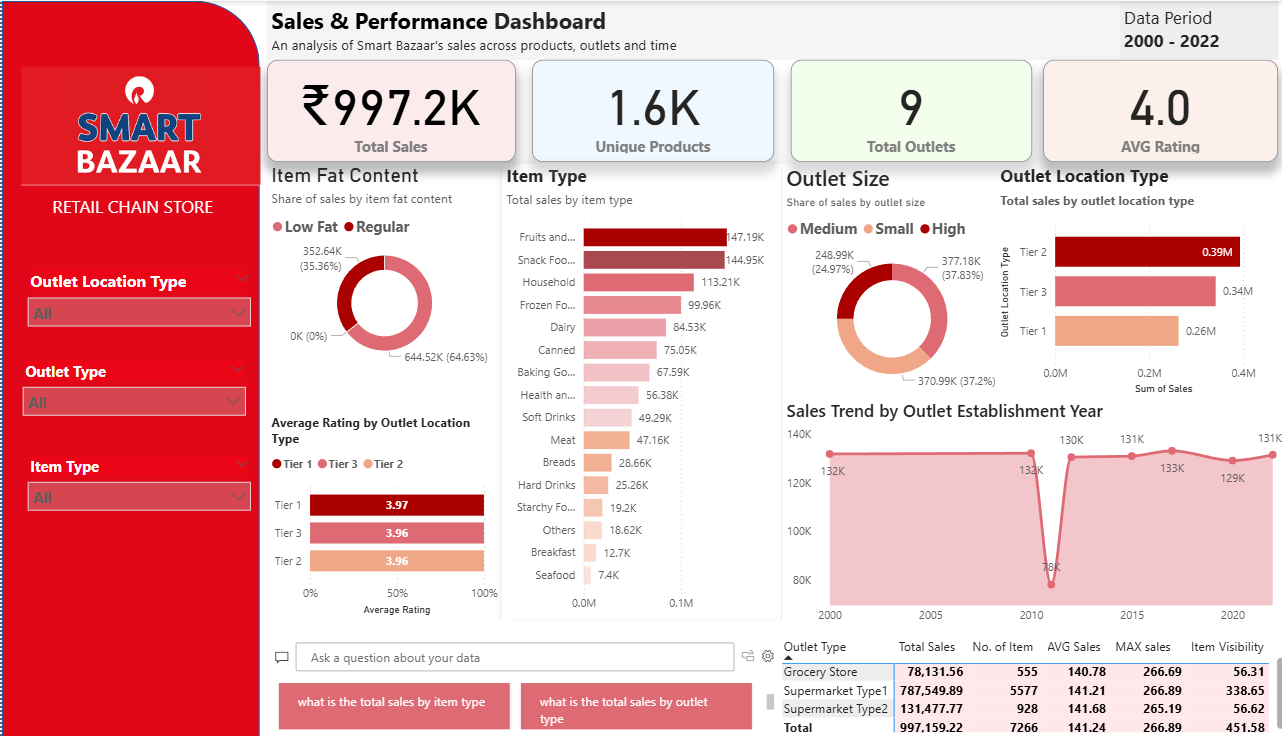

Layout of this report page (visuals, bound fields, positions):
{"tool":"powerbi","page":{"name":"Page 1","canvas":[1400,800],"ordinal":0},"visuals":[{"type":"textbox","box":[0,40,280,120],"z":0},{"type":"shape","box":[0,0,280,800],"z":1000},{"type":"donutChart","title":"Item Fat Content","fields":{"Y":["Big Bazaar.Total Sales","Big Bazaar.AVG Rating"],"Category":["Big Bazaar.Item Fat Content"]},"box":[288,176,256,224],"z":2000},{"type":"hundredPercentStackedBarChart","title":" Average Rating by Outlet Location Type","fields":{"Category":["Big Bazaar.Outlet Location Type"],"Y":["Big Bazaar.AVG Rating"],"Series":["Big Bazaar.Outlet Location Type"]},"box":[288,448,256,224],"z":3000},{"type":"barChart","title":" Item Type","fields":{"Category":["Big Bazaar.Item Type"],"Y":["Sum(Big Bazaar.Sales)"]},"box":[544,176,304,496],"z":4000},{"type":"lineChart","title":" Sales Trend by Outlet Establishment Year","fields":{"Y":["Sum(Big Bazaar.Sales)"],"Category":["Big Bazaar.Outlet Establishment Year"]},"box":[847.8,432.1,551.6,254.1],"z":5000},{"type":"donutChart","title":"Outlet Size","fields":{"Y":["Big Bazaar.Total Sales"],"Category":["Big Bazaar.Outlet Size"]},"box":[848,176,240,256],"z":6000},{"type":"clusteredBarChart","title":"Outlet Location Type","fields":{"Category":["Big Bazaar.Outlet Location Type"],"Y":["Sum(Big Bazaar.Sales)"]},"box":[1080,176,320,256],"z":7000},{"type":"pivotTable","title":"Outlet Type ","fields":{"Rows":["Big Bazaar.Outlet Type"],"Values":["Big Bazaar.Total Sales","Big Bazaar.No of Item","Big Bazaar.AVG Sales","Big Bazaar.MAX sales","Sum(Big Bazaar.Item Visibility)"]},"box":[839.7,686.1,559.8,114.1],"z":8000},{"type":"slicer","fields":{"Values":["Big Bazaar.Outlet Type"]},"box":[12.9,385.7,262.9,92.9],"z":9000},{"type":"slicer","fields":{"Values":["Big Bazaar.Outlet Location Type"]},"box":[17.1,288.6,262.9,92.9],"z":10000},{"type":"slicer","fields":{"Values":["Big Bazaar.Item Type"]},"box":[17.1,488.6,262.9,91.4],"z":11000},{"type":"textbox","box":[12.9,205.7,260,52.9],"z":12000},{"type":"image","box":[16,48,272,176],"z":13000},{"type":"card","fields":{"Values":["Big Bazaar.Unique Products"]},"box":[576.1,63.9,263.6,111.4],"z":14000},{"type":"card","fields":{"Values":["Big Bazaar.Total Sales"]},"box":[288.6,64.3,270,111.4],"z":15000},{"type":"card","fields":{"Values":["Big Bazaar.Total Outlets"]},"box":[857.3,63.9,262.2,111.4],"z":16000},{"type":"card","fields":{"Values":["Big Bazaar.AVG Rating"]},"box":[1131.8,63.9,255.4,111.4],"z":17000},{"type":"qnaVisual","box":[288,672,560,128],"z":18000},{"type":"textbox","box":[288,0,926.6,63.9],"z":19000},{"type":"textbox","box":[1214.3,0,172.9,64.3],"z":20000}]}

Visuals, with their boxes in screenshot pixels (x1, y1, x2, y2), scaled from the page's 1400x800 canvas onto the 1282x736 screenshot:
textbox: 0, 37, 256, 147
shape: 0, 0, 256, 735
"Item Fat Content" donutChart: 264, 162, 498, 368
" Average Rating by Outlet Location Type" hundredPercentStackedBarChart: 264, 412, 498, 618
" Item Type" barChart: 498, 162, 777, 618
" Sales Trend by Outlet Establishment Year" lineChart: 776, 398, 1281, 631
"Outlet Size" donutChart: 777, 162, 996, 397
"Outlet Location Type" clusteredBarChart: 989, 162, 1281, 397
"Outlet Type " pivotTable: 769, 631, 1281, 735
slicer - Big Bazaar.Outlet Type: 12, 355, 253, 440
slicer - Big Bazaar.Outlet Location Type: 16, 266, 256, 351
slicer - Big Bazaar.Item Type: 16, 450, 256, 534
textbox: 12, 189, 250, 238
image: 15, 44, 264, 206
card - Big Bazaar.Unique Products: 528, 59, 769, 161
card - Big Bazaar.Total Sales: 264, 59, 512, 162
card - Big Bazaar.Total Outlets: 785, 59, 1025, 161
card - Big Bazaar.AVG Rating: 1036, 59, 1270, 161
qnaVisual: 264, 618, 777, 735
textbox: 264, 0, 1112, 59
textbox: 1112, 0, 1270, 59
